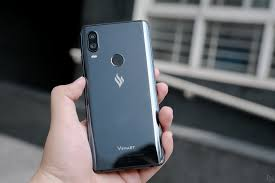vsmart: (73, 15, 162, 175)
